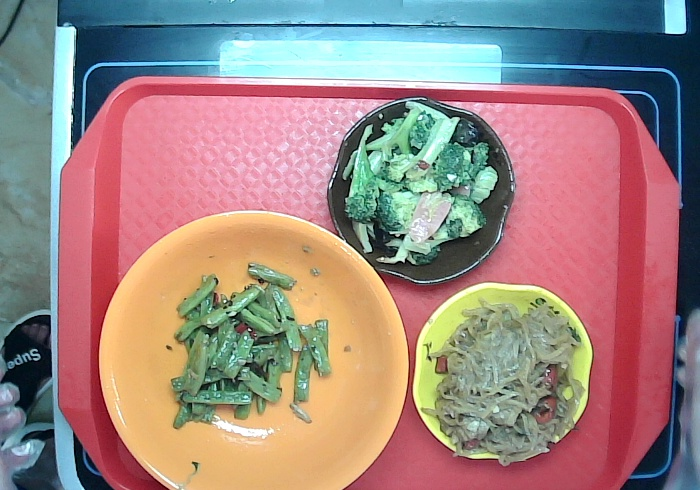YKMZ-Huang_Se_Ao_Bian_Wan: (406, 276, 598, 466)
YKMZ-Ju_Se_Tang_Wan: (88, 201, 414, 490)
YKMZ-Ka_Fei_Ao_Bian_Wan: (319, 91, 519, 287)
